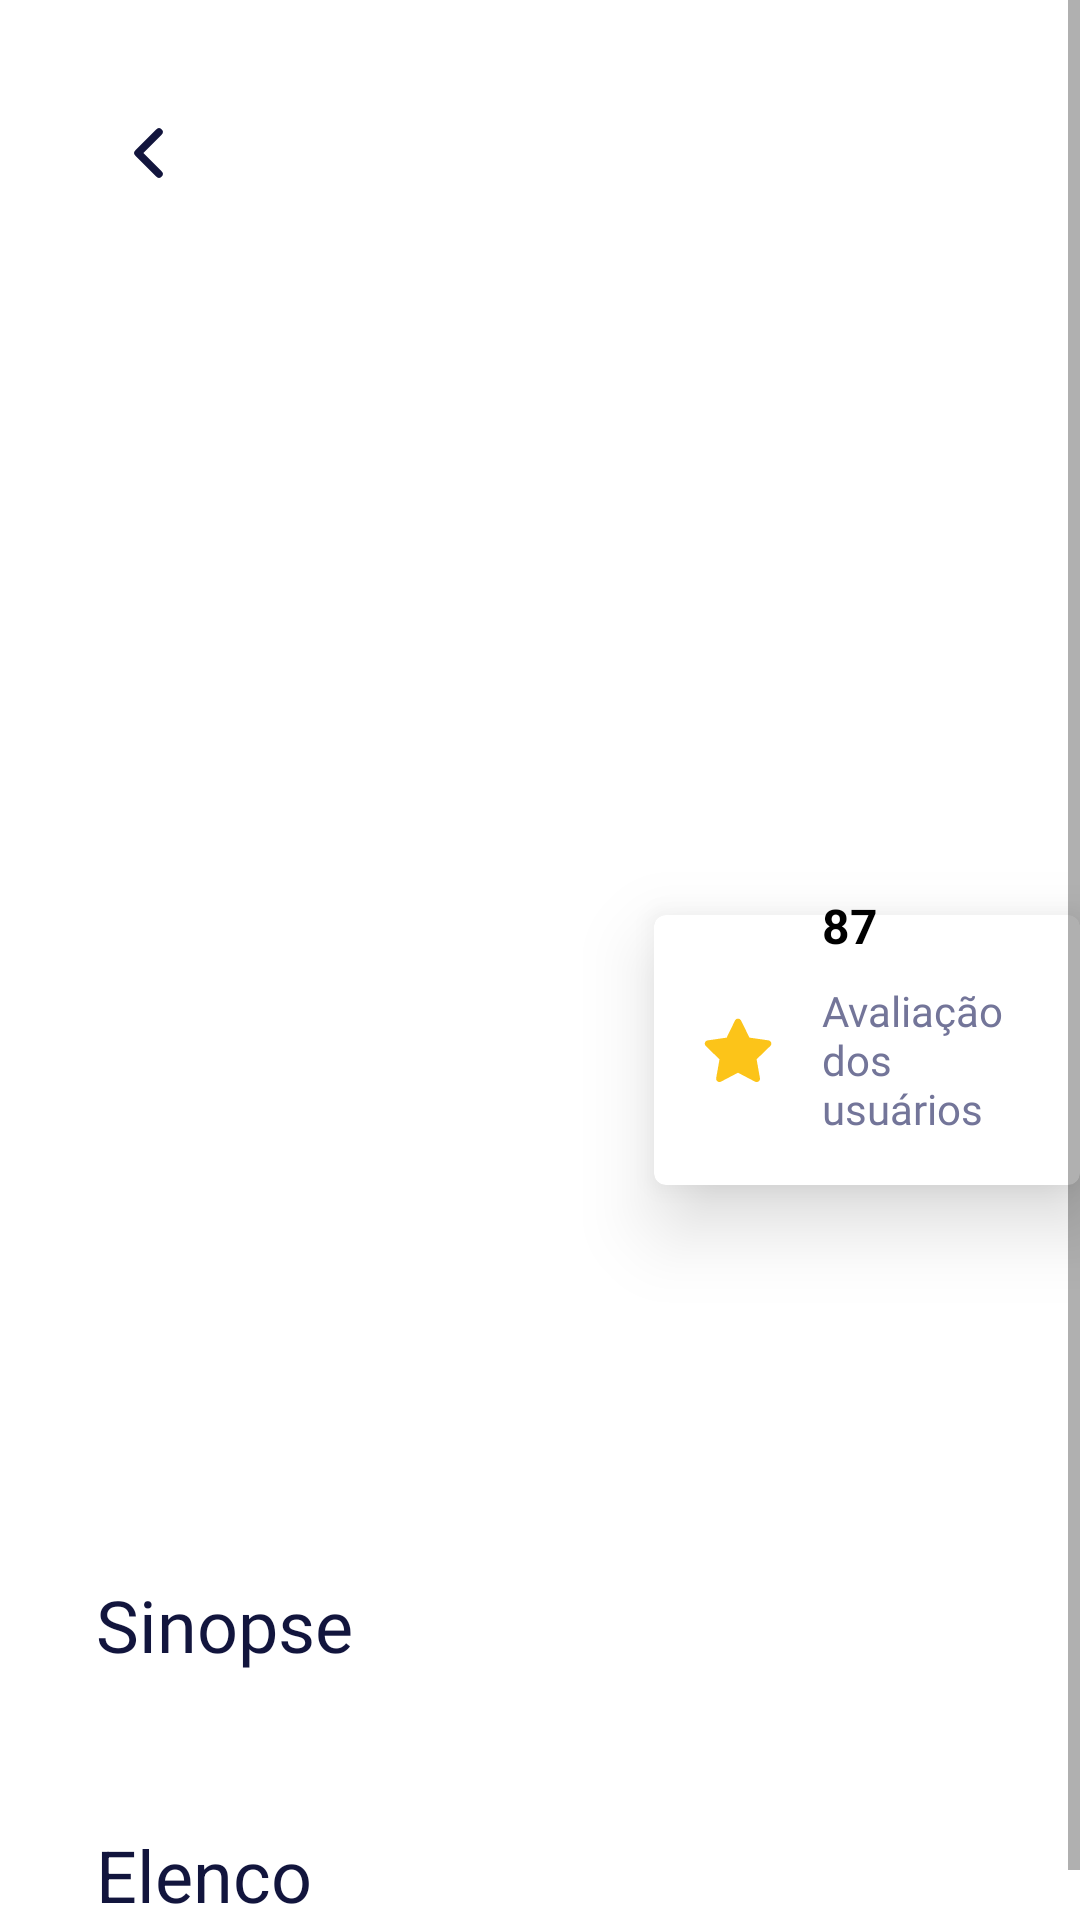

Icon bounding boxes for this 1080 x 1920 phone screenshot, format bbox=[x1, y1, x2, y2]:
Retornar: bbox=[134, 128, 163, 178]
